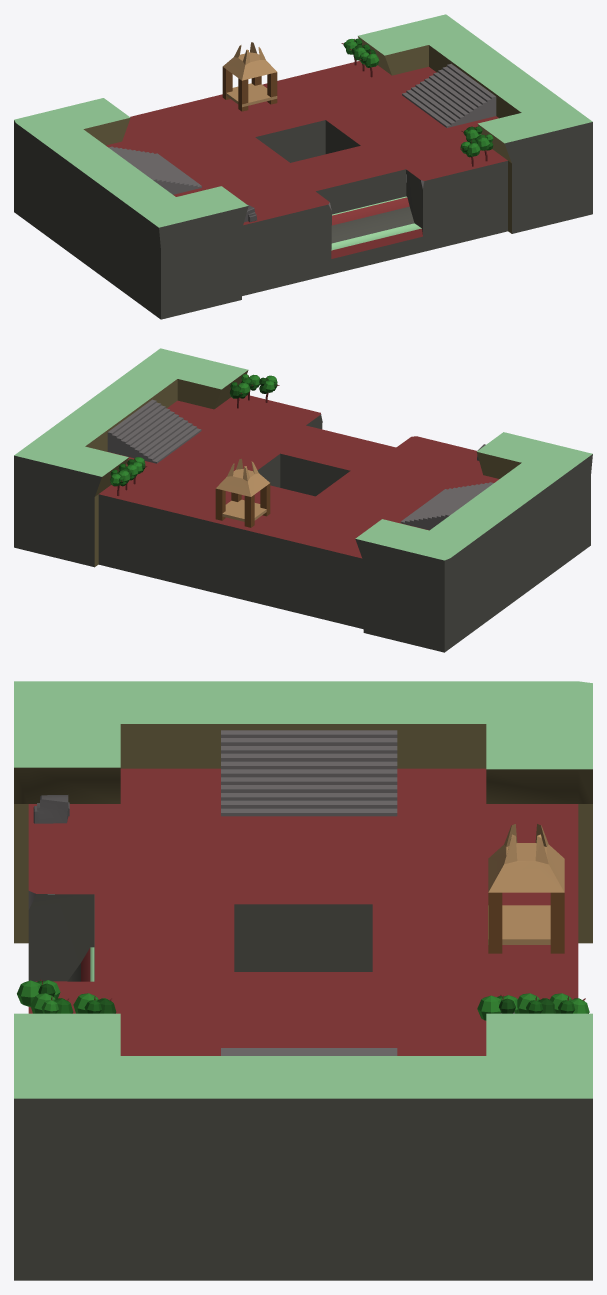
File: symmetry.FBX
3 views of the same model, one above another, from view 1: azimuth 30°, elevation 25°; view 2: azimuth 150°, elevation 25°; view 3: azimuth 270°, elevation 25° (orthographic). The views are drawn at different scales.
Parts seen in each view (by area): view 1: symmetry, house, another rock; view 2: symmetry, house, another rock; view 3: symmetry, house, another rock.
Part boxes in pixels (x1,y1,x2,y2): symmetry: (14, 14, 592, 319); house: (222, 42, 277, 111); another rock: (244, 38, 493, 222); symmetry: (14, 348, 592, 652); house: (215, 458, 270, 527); another rock: (110, 374, 485, 495); symmetry: (14, 681, 592, 1280); house: (488, 824, 564, 953); another rock: (17, 795, 589, 1020).
Size of the model in its own units: 3059 by 1794 by 841.
